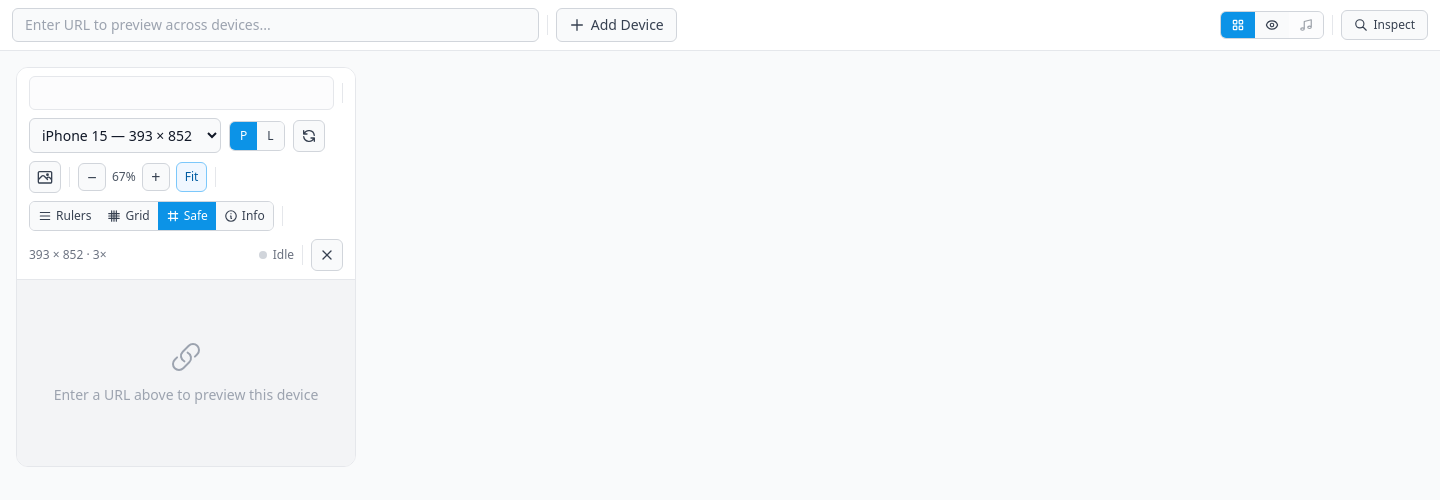
PreviewWorkspace (multi-device) › clicking Inspect activates inspection and opens the panel
Click the button labelled "Inspect" at (1384, 25), box x1=1340 y1=10 x2=1428 y2=40
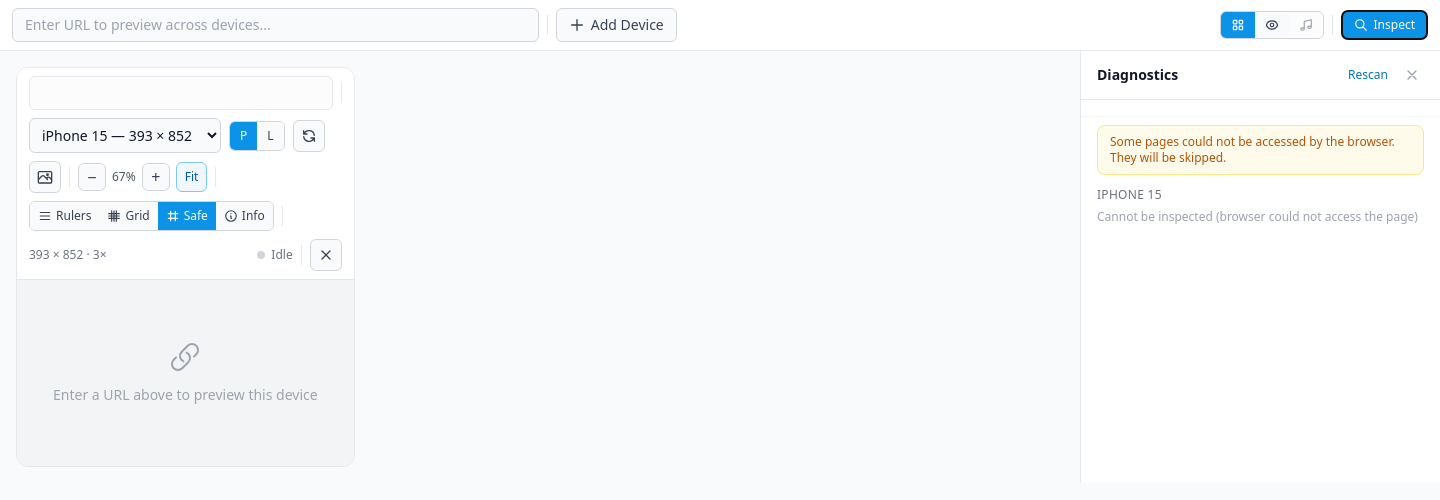
Result: the element named "Inspection results" is shown at x1=1080 y1=51 x2=1439 y2=483
